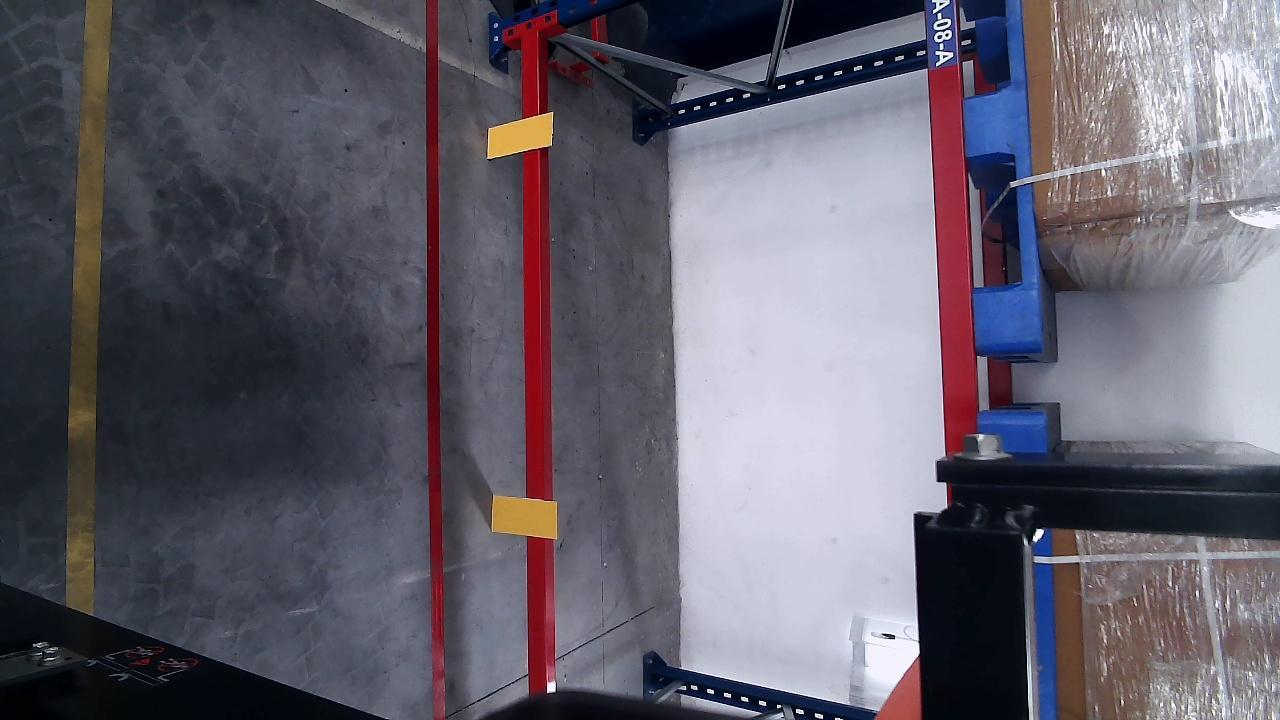h_rack: (923, 0, 976, 449), (519, 30, 551, 691)
orange_strip: (486, 111, 553, 157), (490, 496, 558, 538)
red_line: (425, 4, 452, 717)
small_pallet: (958, 0, 1044, 349)
yellow_line: (59, 0, 115, 616)
